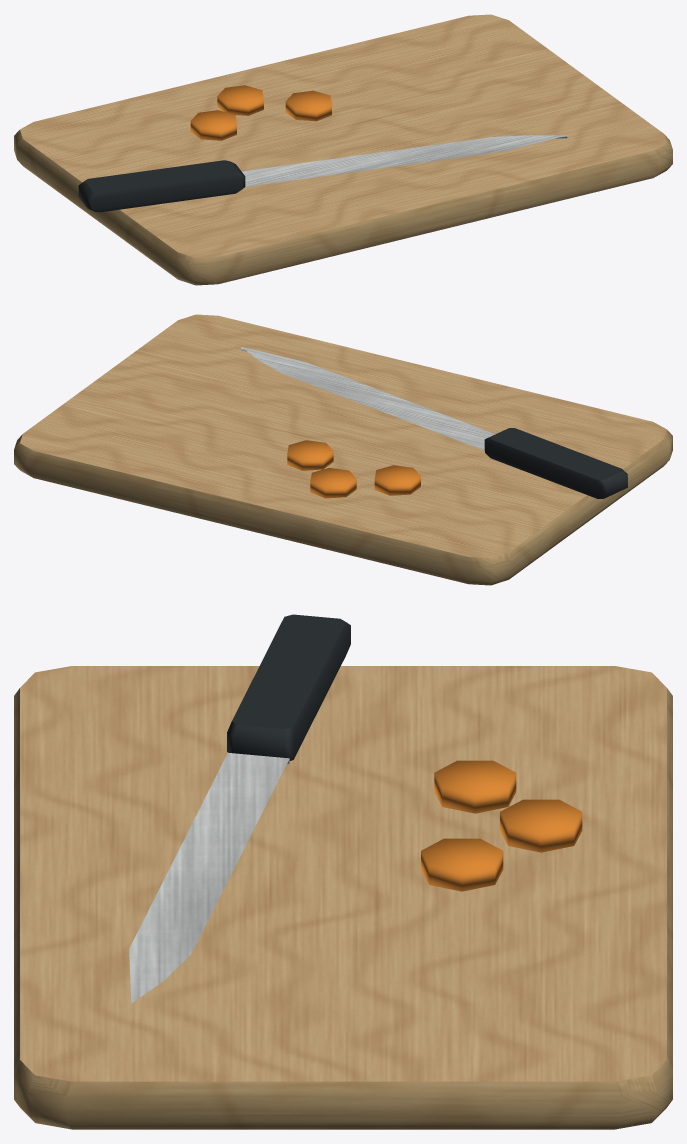
Rendered from cutting_board.glb.
The picture shows the model from 3 angles, top to bottom: view 1: azimuth 30°, elevation 25°; view 2: azimuth 150°, elevation 25°; view 3: azimuth 270°, elevation 25°; orthographic projection. The views are drawn at different scales.
Visible parts, largest first — view 1: cutting_board; view 2: cutting_board; view 3: cutting_board.
Part boxes in pixels (x1=…): cutting_board: x1=14, y1=14, x2=672, y2=285; cutting_board: x1=14, y1=314, x2=672, y2=585; cutting_board: x1=14, y1=614, x2=672, y2=1129.
Size of the model in its own units: 0.3973 by 0.034 by 0.25.
Materials: 3 (2 with a texture image).
